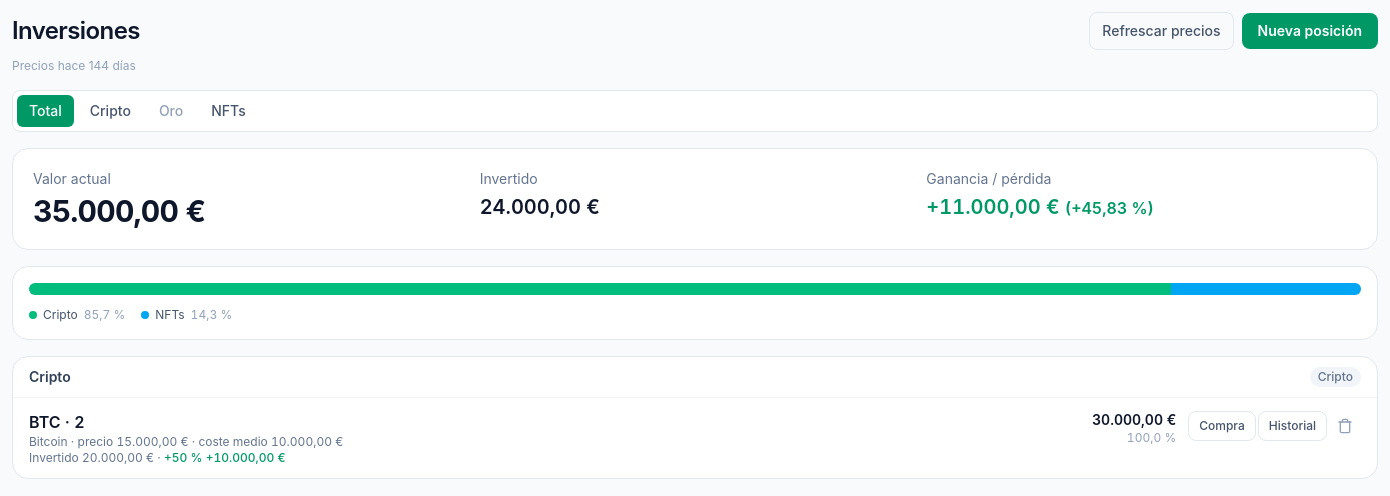
Test case: InvestmentsPage › shows the empty state for an asset class without positions
Click the tab "Oro" at (171, 111), box [147,95,195,127]
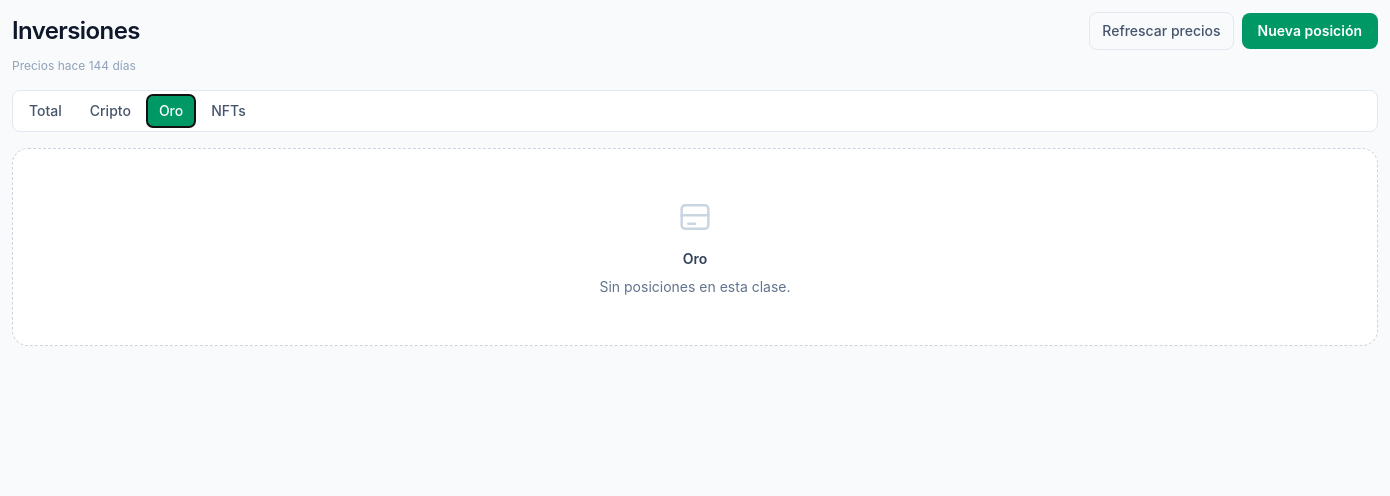
Expected: the text "Sin posiciones en esta clase." is shown, [600,277,791,297]
Expected: the text "Valor actual" is gone
